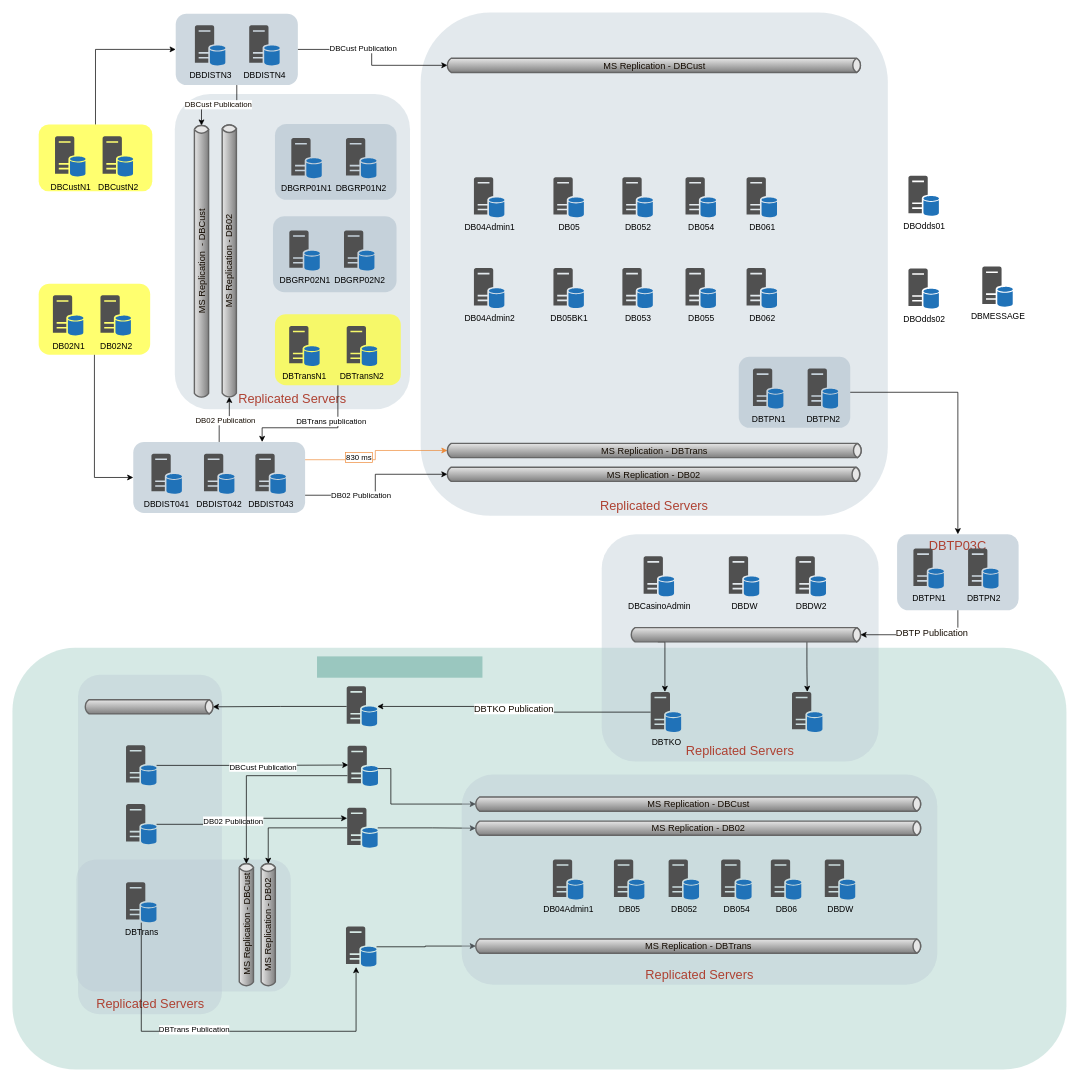
Some shapes in this 1078 by 1081 pixel diagram are drawn without their labels. The centre of each missing label's shape, as x and y in pixels:
"AWS Environment" goes at pixel 399 666.
"DB02" goes at pixel 141 824.
"DBBAL" goes at pixel 807 712.
"DBCust" goes at pixel 141 765.
"DBDIST01" goes at pixel 361 946.
"DBDIST02" goes at pixel 362 827.
"DBDIST03" goes at pixel 362 766.
"DBTKODIST" goes at pixel 361 706.
"MS Replication - DBTKO" goes at pixel 148 706.
"MS Replication - DBTP" goes at pixel 745 634.
